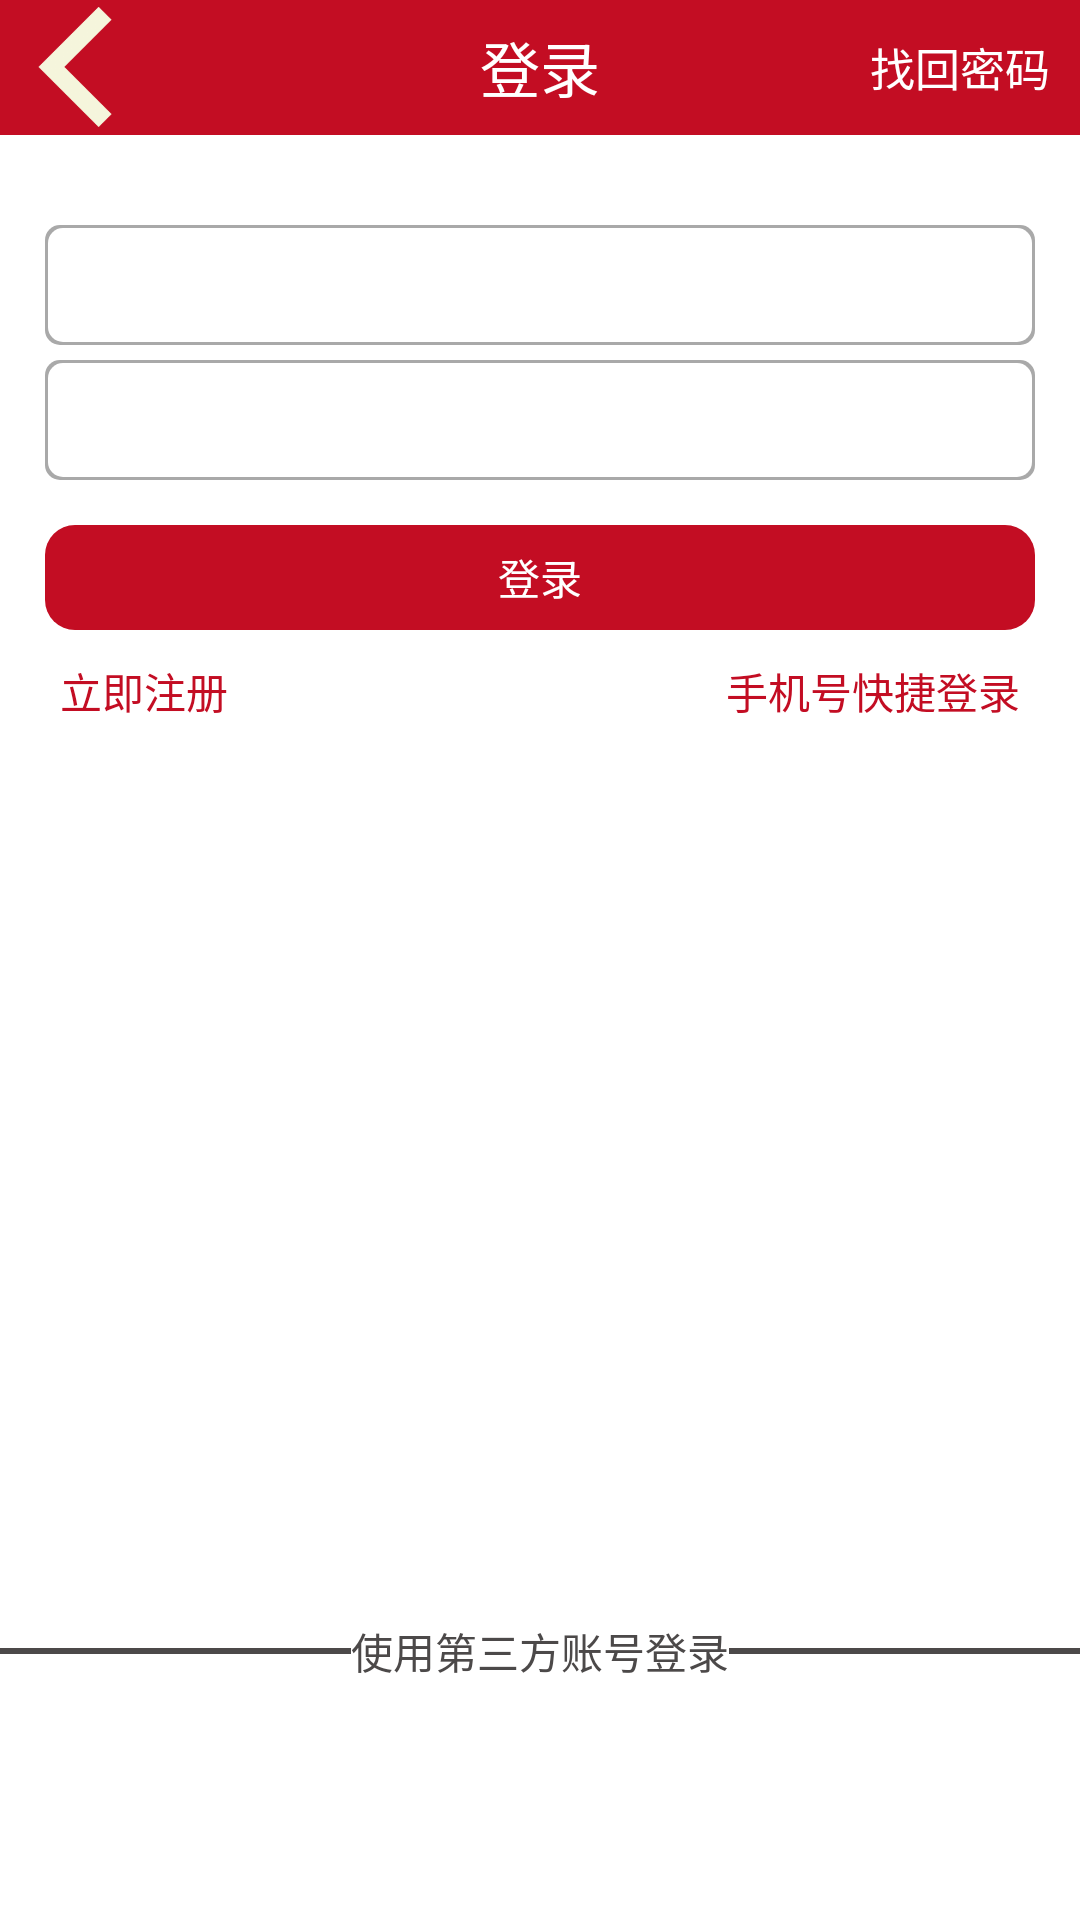

Locate icon controls on the screen. Image size 1080w x 1920h, boxes as {"left": x1, "top": y1, "right": x2, "bottom": y2}.
arrowleft: {"left": 38, "top": 7, "right": 112, "bottom": 127}
